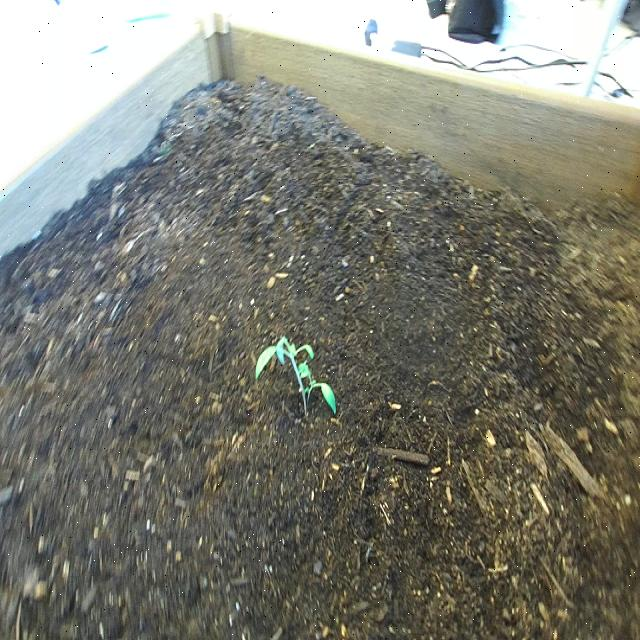Healthy: (252, 331, 344, 430)
